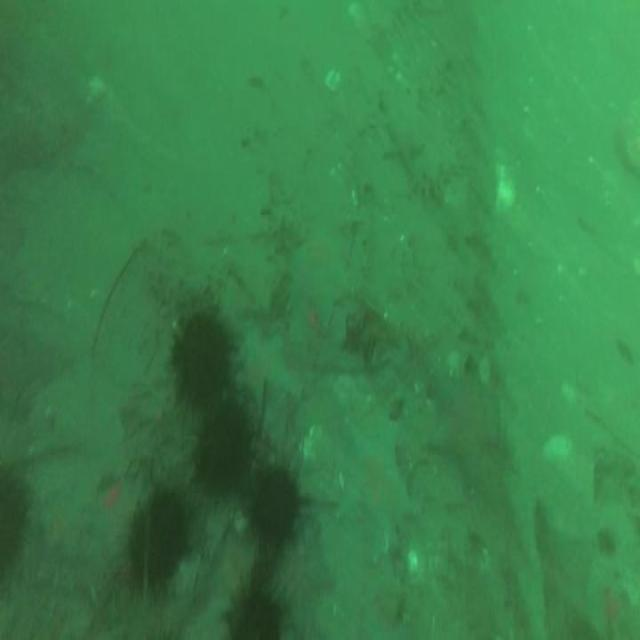echinus: (127, 488, 188, 580), (193, 398, 254, 487), (173, 310, 231, 403), (251, 465, 297, 542), (0, 471, 25, 570), (227, 594, 280, 640)
scallop: (490, 150, 517, 221), (324, 68, 342, 95)
starfish: (335, 427, 416, 562), (430, 365, 500, 495), (268, 514, 332, 638), (295, 226, 349, 324), (38, 496, 83, 560)
